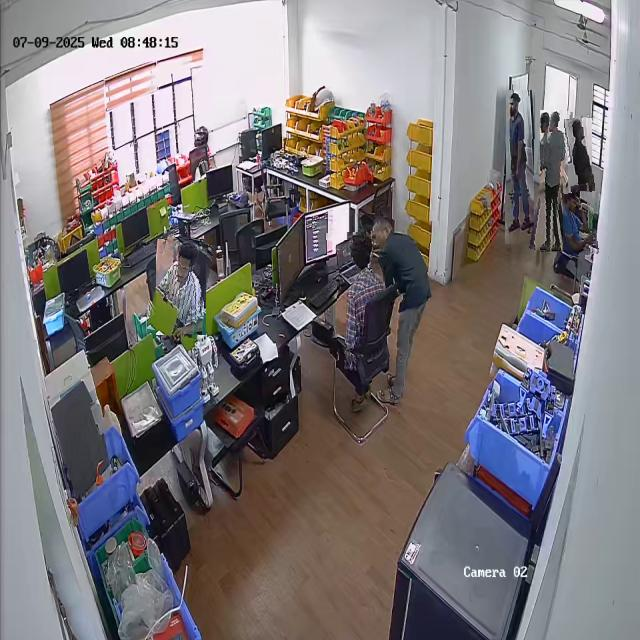person: (372, 219, 438, 409), (316, 231, 385, 361), (152, 237, 211, 337), (535, 110, 568, 252), (506, 90, 534, 244), (562, 184, 596, 257), (566, 118, 594, 192)
